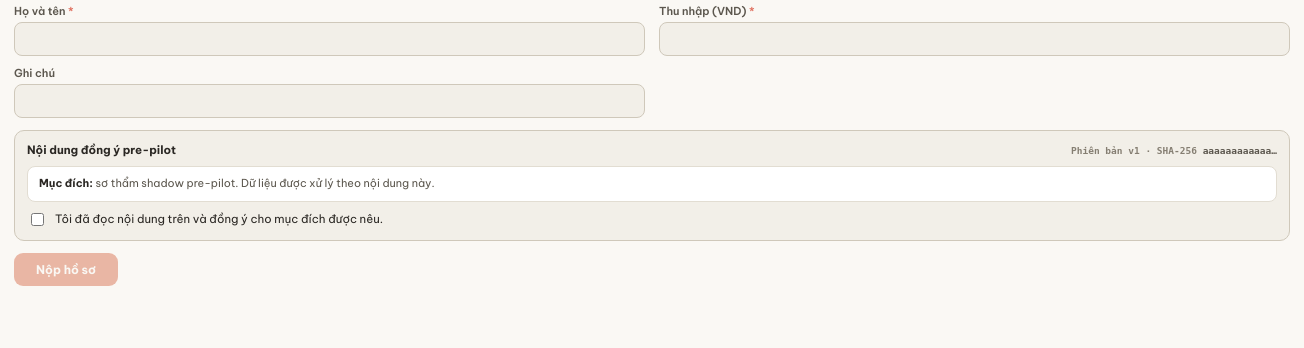
Test case: FormCard › lỗi runtime khi submit → hiện generic, không lộ chi tiết kỹ thuật
This screenshot has width=1304, height=348.
Type "A" into the field labelled "Họ và tên" at x=330, y=39, box [14,22,645,56]
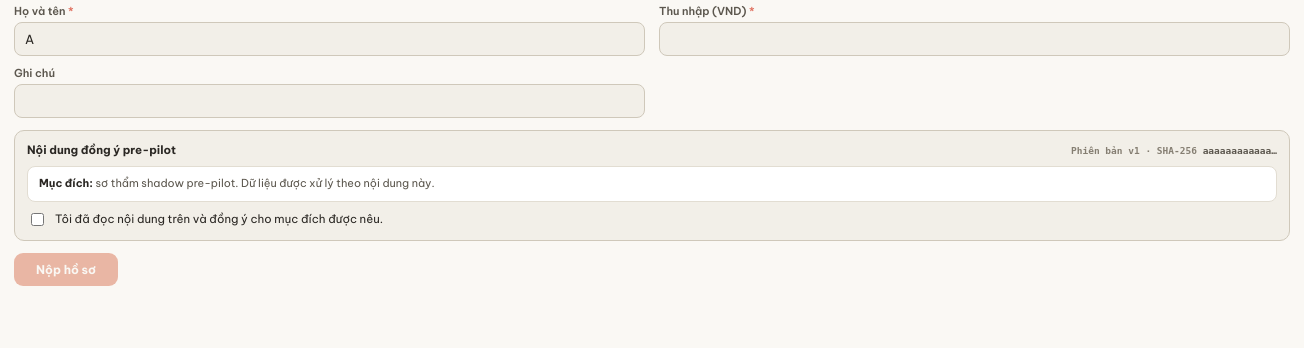
Type "15000000" into the number field labelled "Thu nhập (VND)" at x=974, y=39, box [659,22,1290,56]
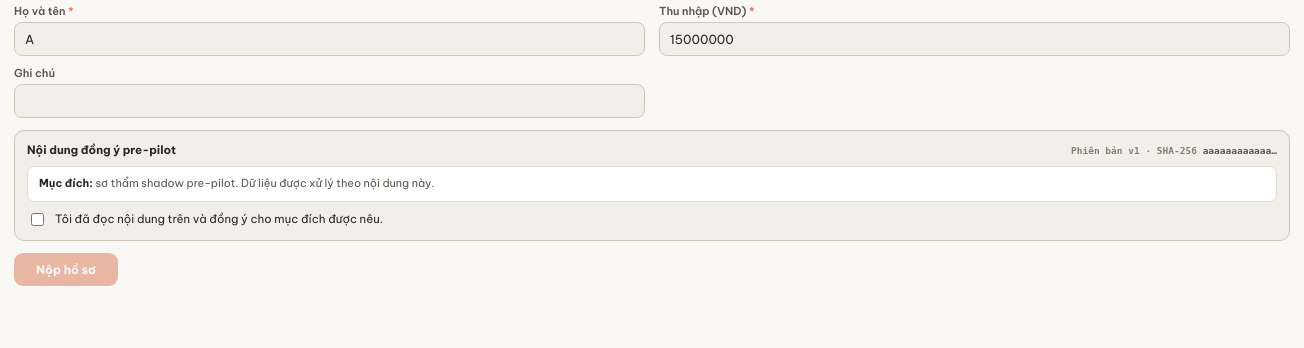
Click the checkbox at x=38, y=219, box [31,213,44,226]
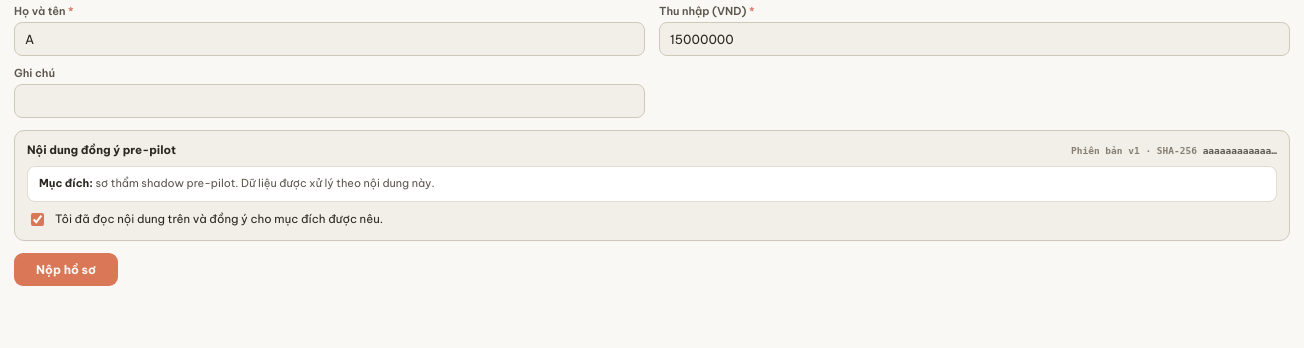
Click the button with test id "form-submit" at x=66, y=269, box [14,253,118,286]
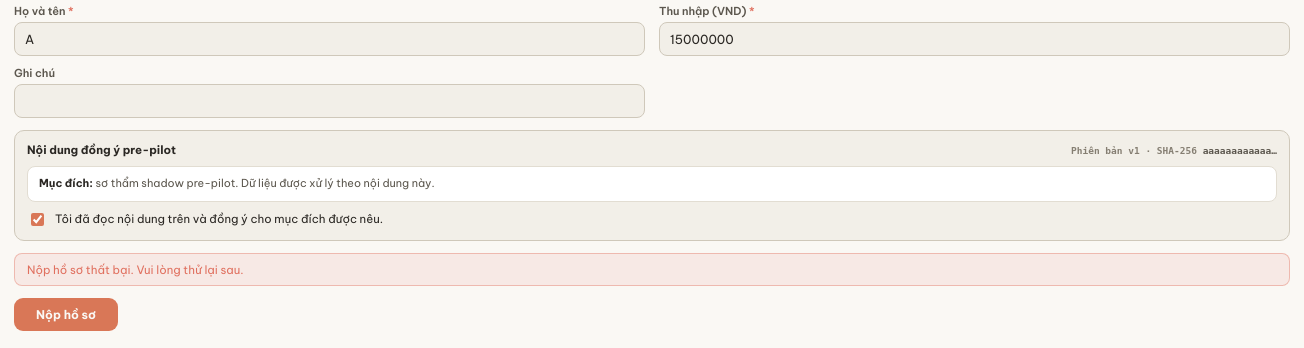
Expected: the message shows "Nộp hồ sơ thất bại", [27,262,244,277]
